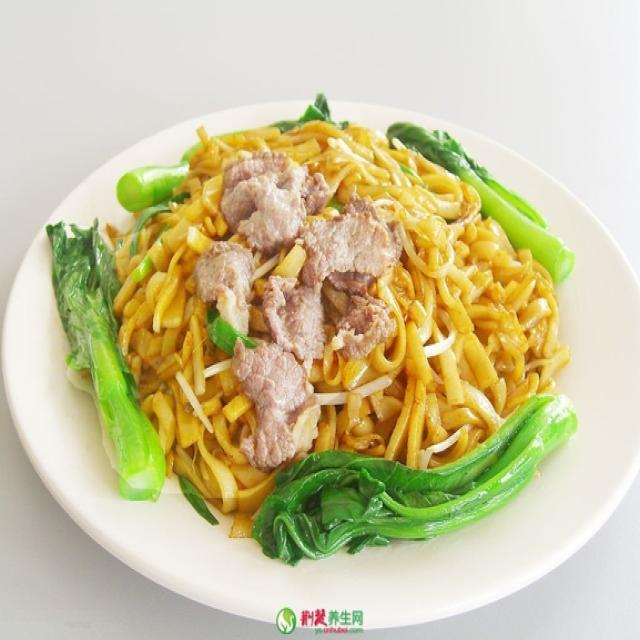面条主食: (35, 81, 598, 604)
